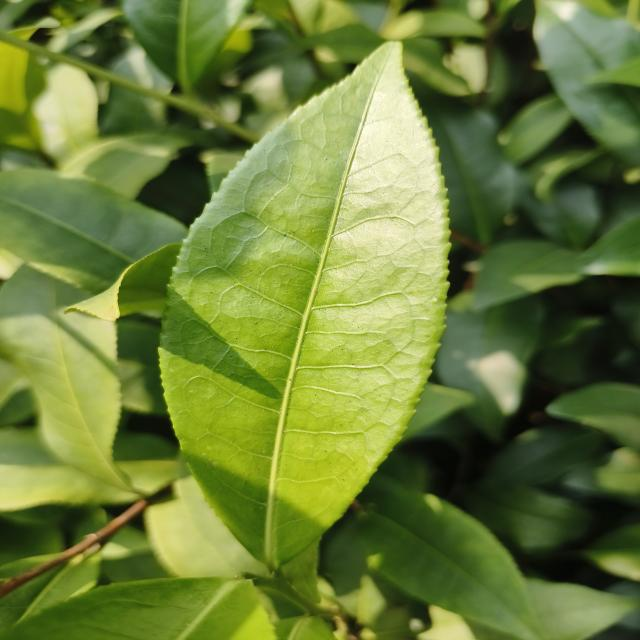Leaf: (160, 42, 449, 569), (357, 474, 542, 640), (0, 266, 135, 489), (0, 168, 187, 295), (410, 74, 516, 244), (534, 0, 640, 166), (0, 577, 277, 640), (435, 291, 543, 440), (0, 427, 177, 511), (145, 475, 268, 578), (123, 0, 251, 91), (466, 479, 590, 553), (65, 243, 181, 321), (0, 552, 101, 633), (60, 134, 185, 199), (472, 239, 585, 310), (487, 425, 605, 485), (526, 578, 637, 640), (547, 383, 640, 452), (32, 64, 98, 160), (521, 178, 601, 249), (498, 94, 572, 165), (403, 38, 471, 96), (579, 218, 640, 276), (299, 24, 387, 63), (0, 555, 50, 586)
